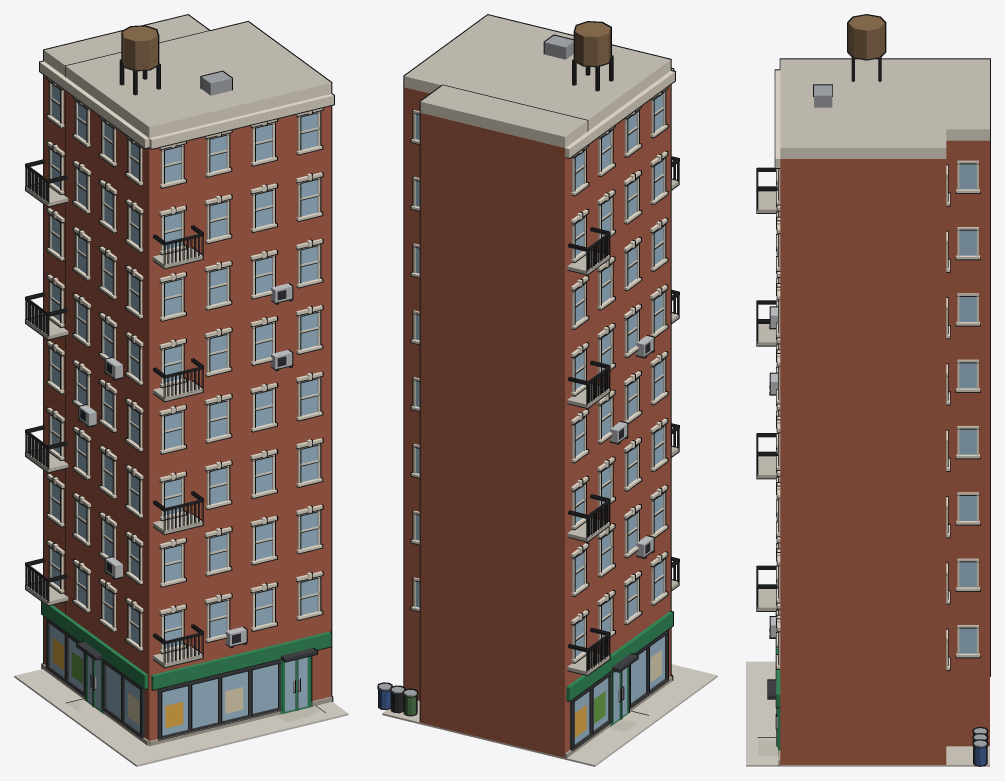
File: Blok_kose_9k_2.fbx
3 renders of one model, left to right at view 1: azimuth 30°, elevation 25°; view 2: azimuth 150°, elevation 25°; view 3: azimuth 270°, elevation 25°, orthographic.
Parts seen in each view (by area): view 1: Blok_kose_9k_2; view 2: Blok_kose_9k_2; view 3: Blok_kose_9k_2.
Part boxes in pixels (x1,y1,x2,y2): Blok_kose_9k_2: [14, 14, 348, 766]; Blok_kose_9k_2: [377, 14, 717, 766]; Blok_kose_9k_2: [746, 14, 990, 766].
Bounding box in the file's own units: 10.43 × 30.48 × 10.03.
